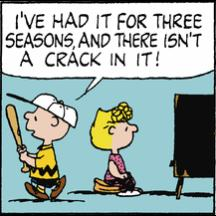charlie: (16, 93, 78, 201)
